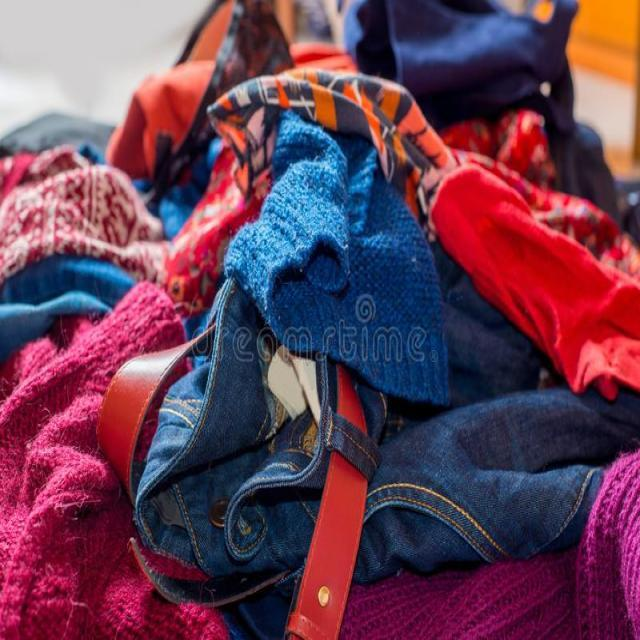clothes: (99, 169, 620, 640)
